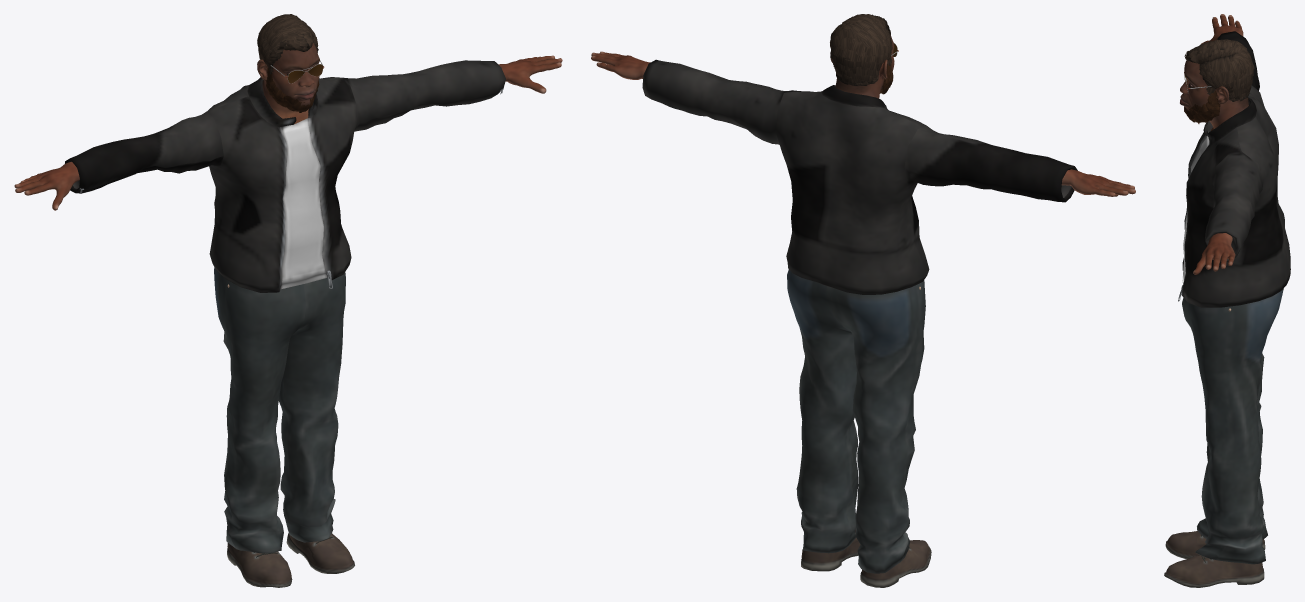
The model's file is male_civ_v5.glb.
3 views of the same model, side by side, from view 1: azimuth 30°, elevation 25°; view 2: azimuth 150°, elevation 25°; view 3: azimuth 270°, elevation 25° (orthographic). The views are drawn at different scales.
Parts seen in each view (by area): view 1: Object_5, Object_4, Object_3; view 2: Object_5, Object_4, Object_3; view 3: Object_5, Object_4, Object_3, Object_2.
Part boxes in pixels (x1=…): Object_5: x1=65, y1=60, x2=505, y2=587; Object_4: x1=214, y1=14, x2=345, y2=553; Object_3: x1=14, y1=43, x2=562, y2=210; Object_5: x1=642, y1=59, x2=1077, y2=587; Object_4: x1=787, y1=14, x2=925, y2=573; Object_3: x1=591, y1=35, x2=1135, y2=196; Object_5: x1=1164, y1=31, x2=1290, y2=587; Object_4: x1=1182, y1=39, x2=1283, y2=564; Object_3: x1=1180, y1=14, x2=1248, y2=274; Object_2: x1=1184, y1=90, x2=1220, y2=123.
Bounding box in the file's own units: 193 × 185 × 40.31.
1 material, 1 textured.
